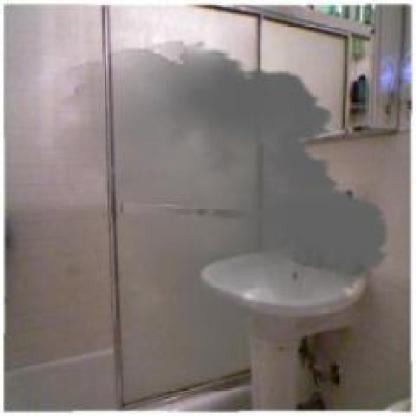Smoke: (48, 41, 401, 384)
